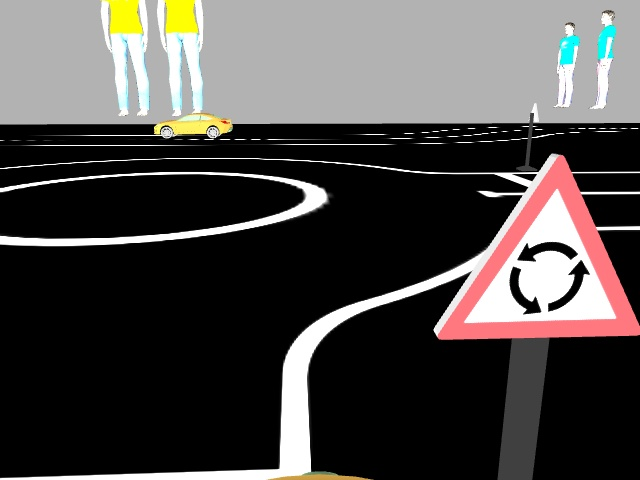Roundabout: (432, 157, 639, 340)
